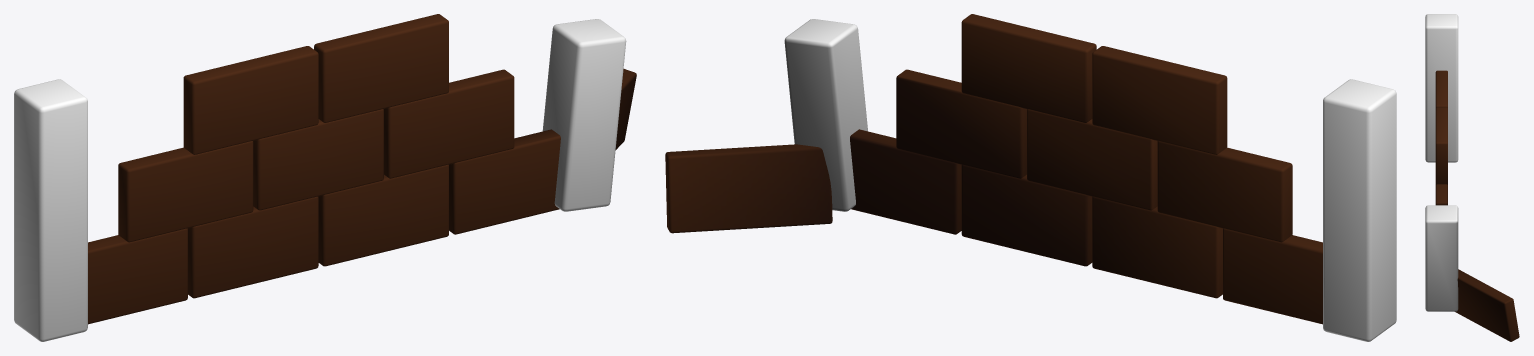
Rendered from ruined-cabin-wall.obj.
3 renders of one model, left to right at view 1: azimuth 30°, elevation 25°; view 2: azimuth 150°, elevation 25°; view 3: azimuth 270°, elevation 25°, orthographic. The views are drawn at different scales.
Parts seen in each view (by area): view 1: ruined-cabin-wall; view 2: ruined-cabin-wall; view 3: ruined-cabin-wall.
Boxes of the visible parts, x1,y1,x2,y2 form: ruined-cabin-wall: (14,14,636,341); ruined-cabin-wall: (665,14,1396,341); ruined-cabin-wall: (1425,14,1519,341).
Size of the model in its own units: 3.26 by 1.15 by 0.6871.
